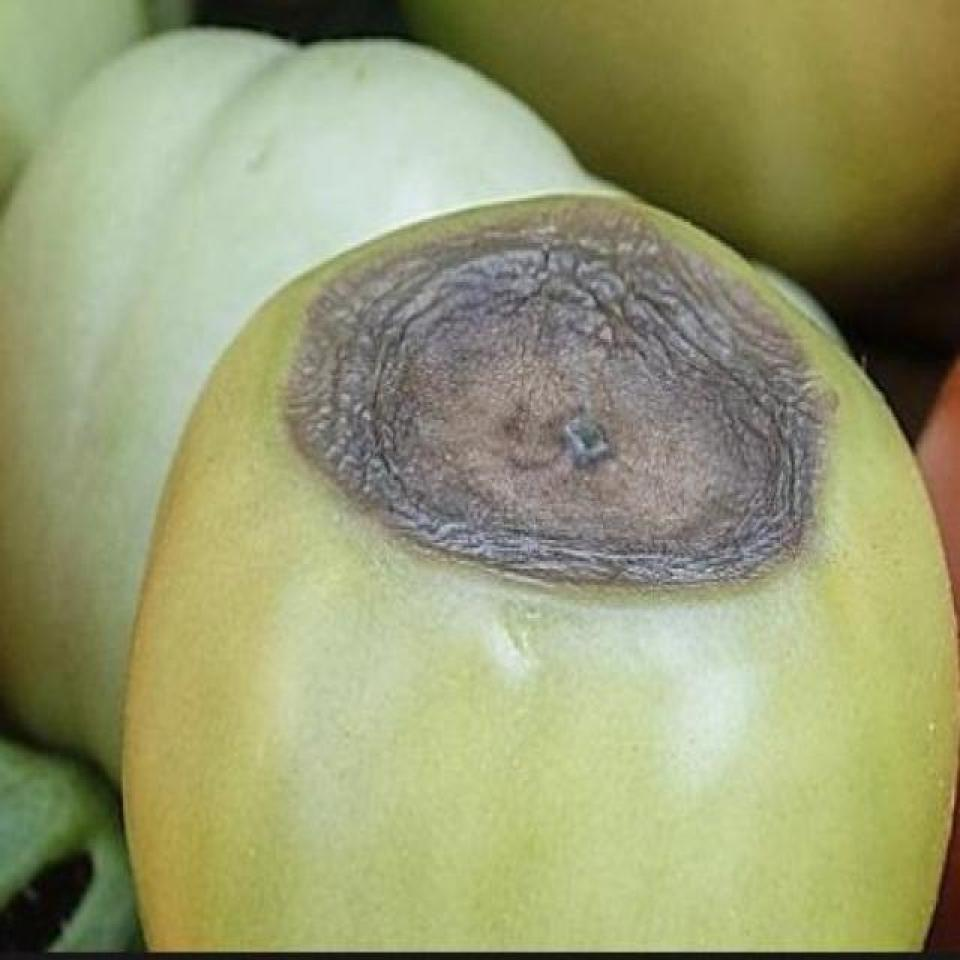Blossom_end_rot: (304, 209, 862, 648)
